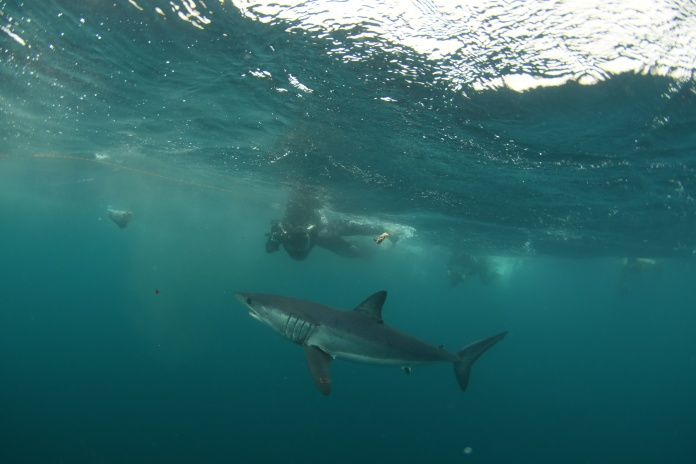Mako: (221, 279, 519, 413)
